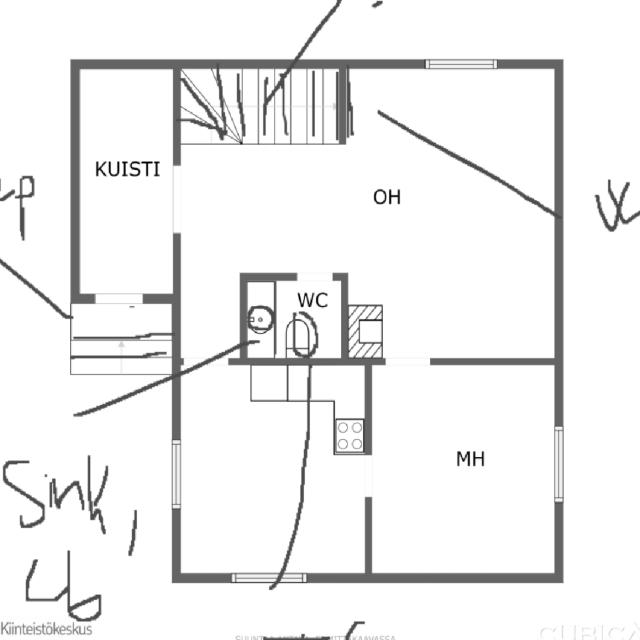window: (420, 51, 500, 74), (549, 422, 569, 506), (167, 160, 187, 238), (88, 288, 152, 310), (167, 438, 186, 512), (382, 353, 435, 371), (226, 570, 282, 587), (292, 270, 336, 282)
zone: (176, 64, 556, 361), (174, 364, 369, 577), (370, 361, 560, 576), (73, 64, 176, 298), (242, 277, 346, 358), (334, 418, 364, 454)
